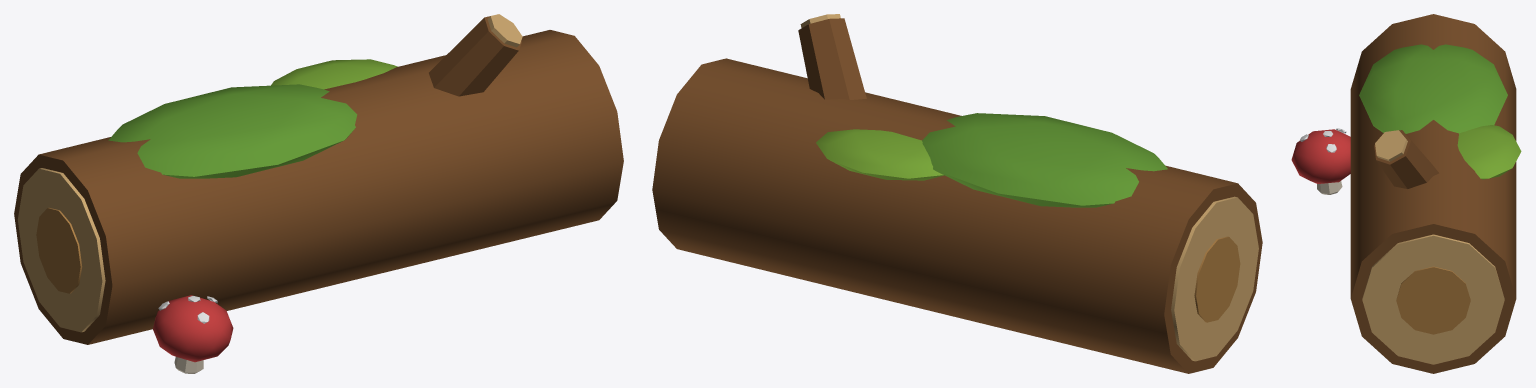
The model's file is p_log_1.glb.
3 renders of one model, left to right at view 1: azimuth 30°, elevation 25°; view 2: azimuth 150°, elevation 25°; view 3: azimuth 270°, elevation 25°, orthographic. The views are drawn at different scales.
Visible parts, largest first — view 1: body; view 2: body; view 3: body.
Part boxes in pixels (x1,y1,x2,y2): body: (14,14,623,373); body: (652,14,1262,373); body: (1291,14,1521,373).
Bounding box in the file's own units: 2.44 × 1.08 × 1.11.
